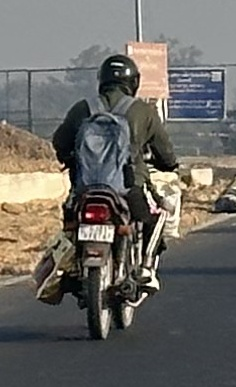BikeWithRider: (29, 52, 185, 344)
Helmet: (90, 52, 145, 100)
